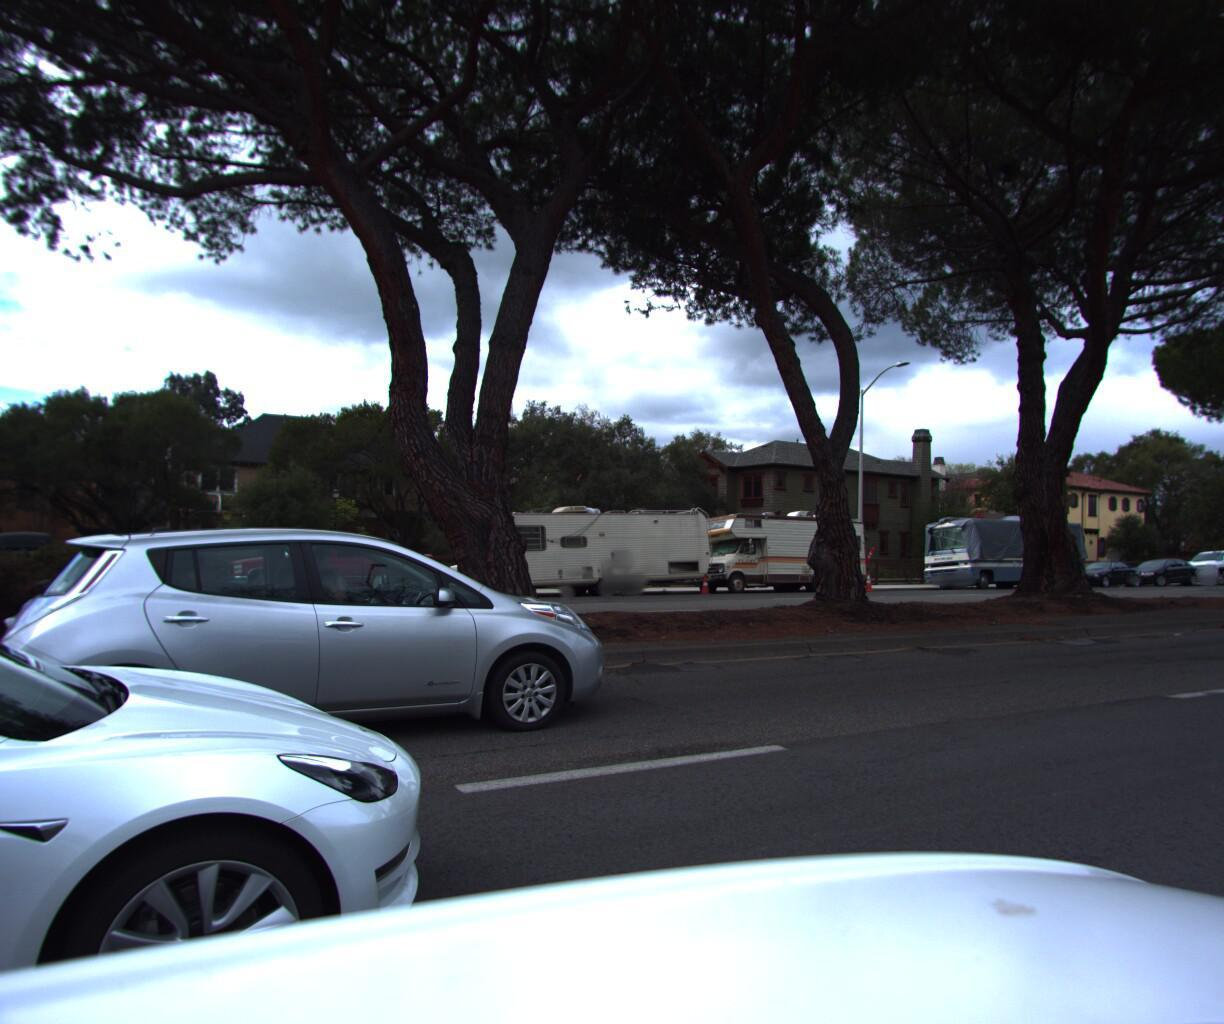car: (5, 510, 623, 790), (203, 527, 444, 605), (1062, 553, 1147, 584), (1166, 542, 1224, 583), (1117, 553, 1194, 584), (1215, 546, 1224, 587)
other_vehicle: (445, 493, 721, 594), (681, 498, 878, 592), (908, 503, 1091, 587)
